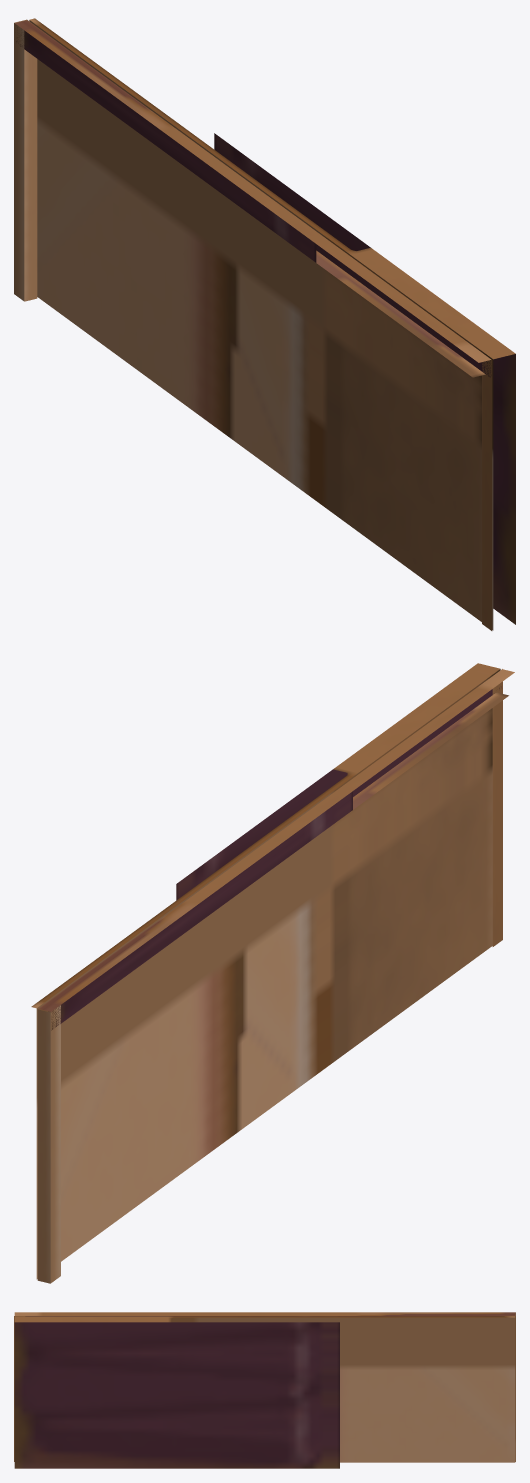
Rendered from section-7.obj.
3 views of the same model, one above another, from view 1: azimuth 30°, elevation 25°; view 2: azimuth 150°, elevation 25°; view 3: azimuth 270°, elevation 25° (orthographic). The views are drawn at different scales.
Size of the model in its own units: 0.0575 by 0.4 by 1.24.
